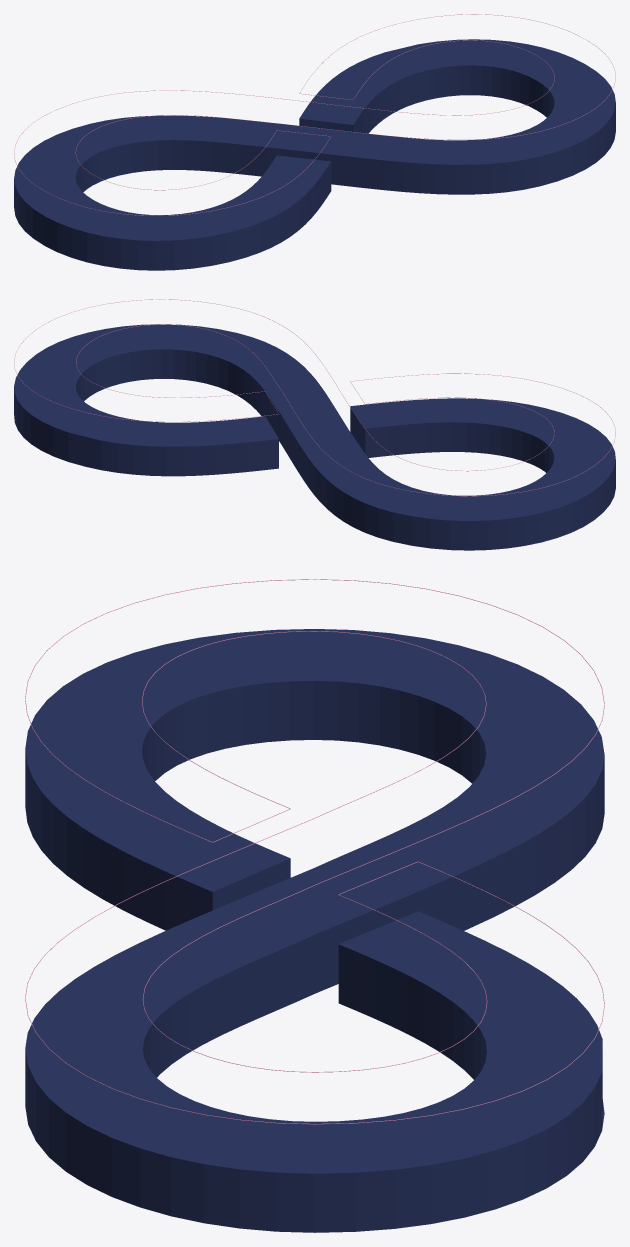
The model's file is Infinity09.gltf.
3 renders of one model, top to bottom at view 1: azimuth 30°, elevation 25°; view 2: azimuth 150°, elevation 25°; view 3: azimuth 270°, elevation 25°, orthographic. The views are drawn at different scales.
Visible parts, largest first — view 1: Curve, Curve.001; view 2: Curve, Curve.001; view 3: Curve, Curve.001.
Part boxes in pixels (left/top/right/bottom): Curve: left=14, top=39, right=615, bottom=270; Curve.001: left=14, top=14, right=615, bottom=215; Curve: left=14, top=324, right=615, bottom=550; Curve.001: left=14, top=299, right=615, bottom=496; Curve: left=25, top=629, right=604, bottom=1232; Curve.001: left=25, top=579, right=604, bottom=1124.
Bounding box in the file's own units: 8.87 × 0.8258 × 3.99.
